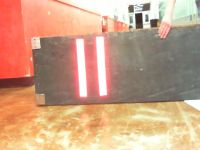switch: (95, 36, 109, 96), (75, 39, 89, 97)
